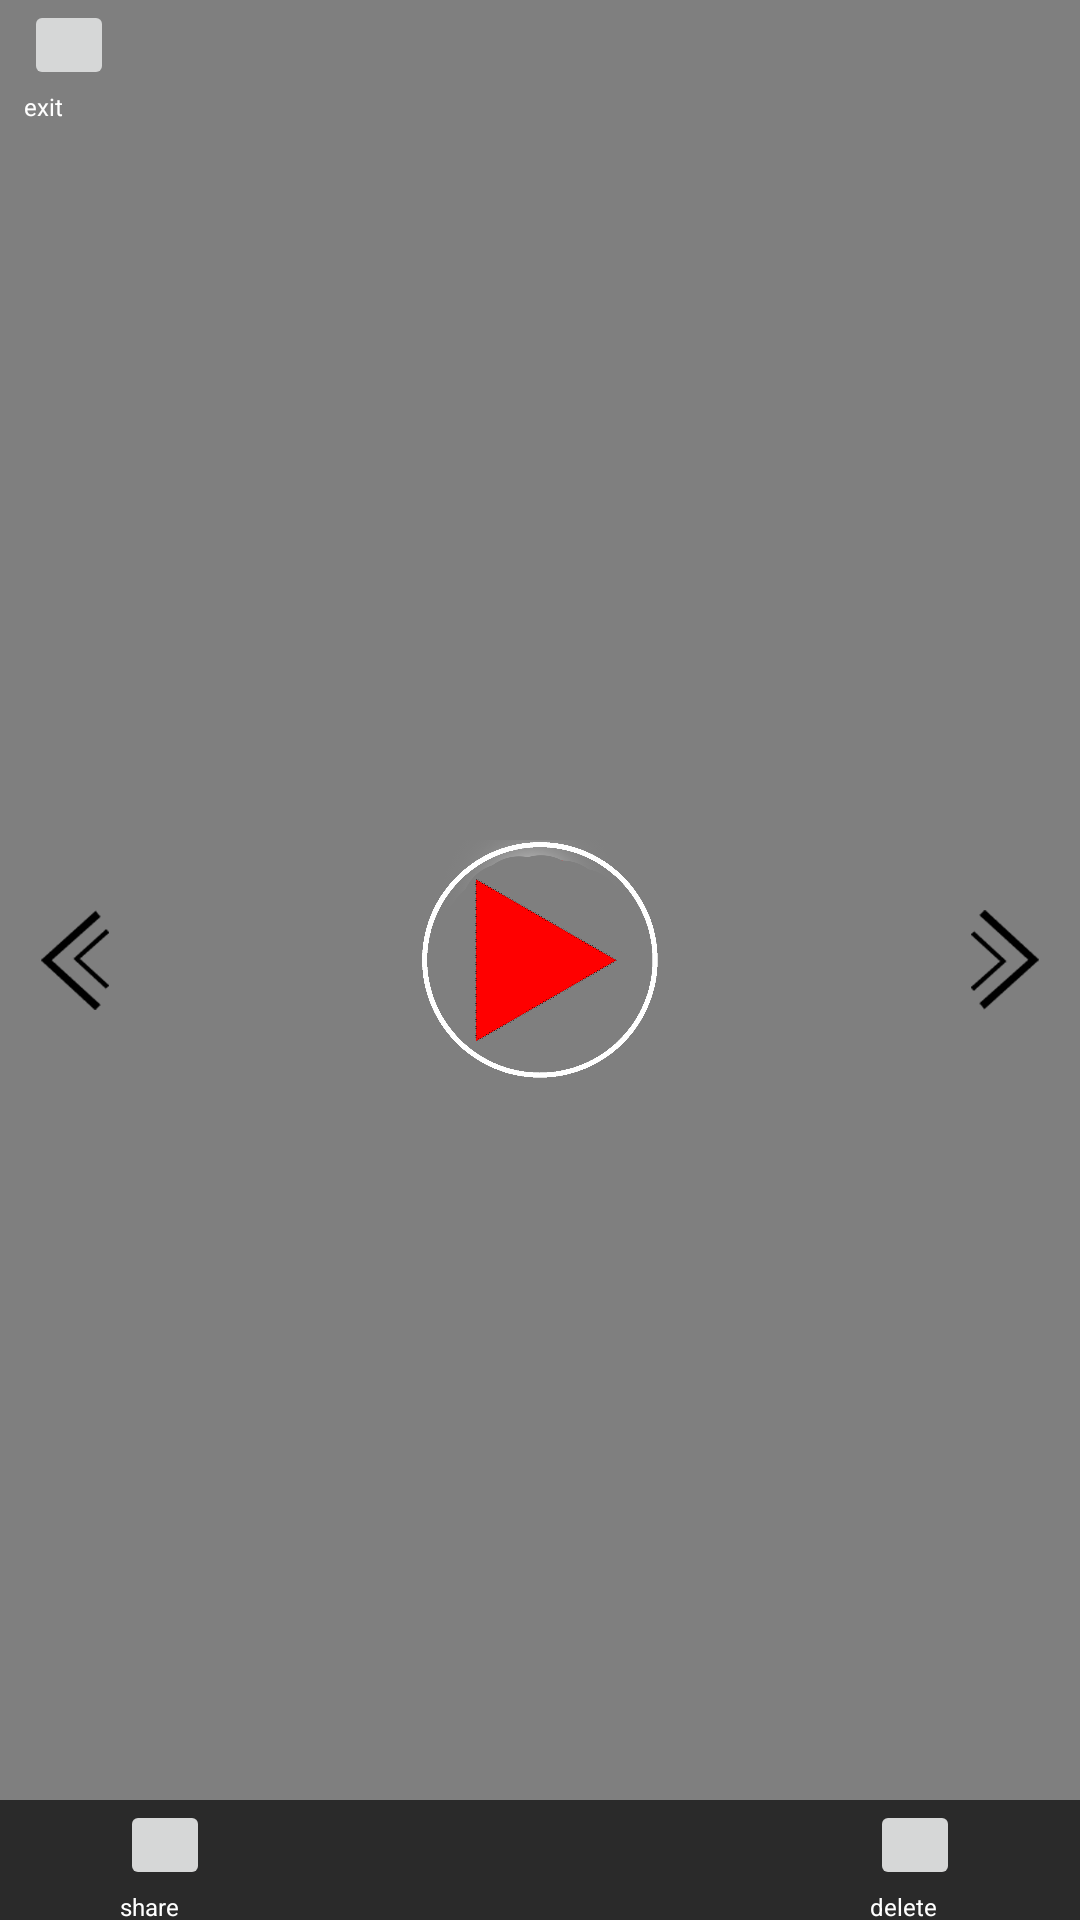

Where to tap for icons on this 1080 x 1920 app screen, as point (x, y):
left: point (75, 960)
right: point (1005, 959)
